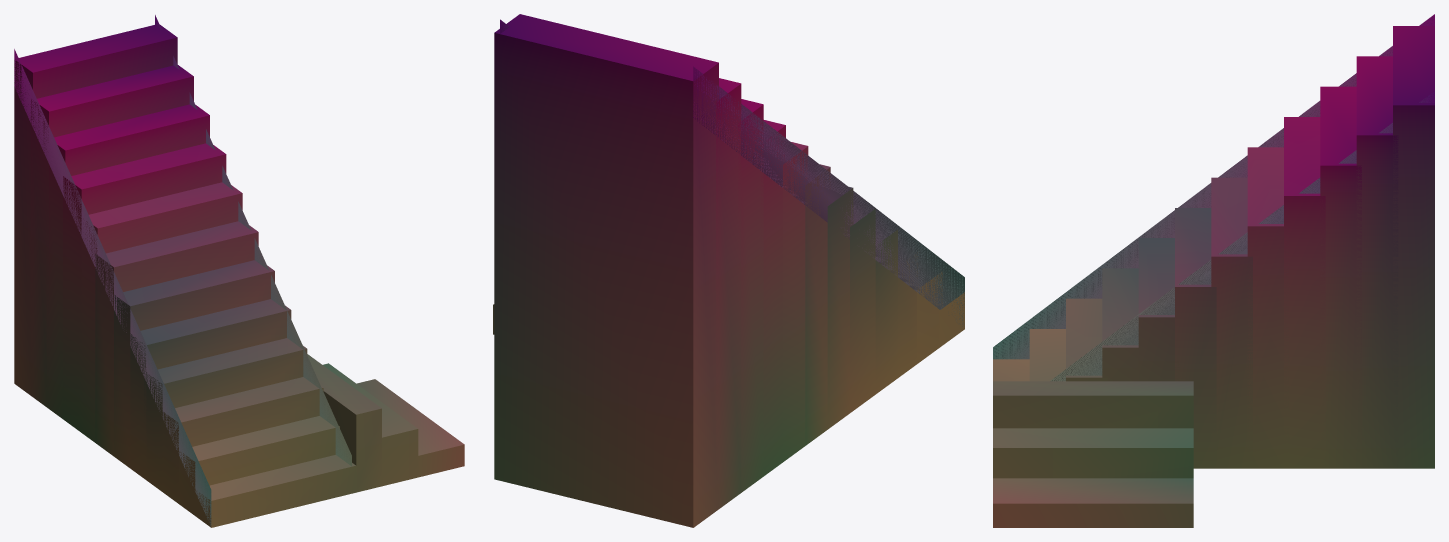
The model's file is stair_wood_3m.glb.
The picture shows the model from 3 angles, left to right: view 1: azimuth 30°, elevation 25°; view 2: azimuth 150°, elevation 25°; view 3: azimuth 270°, elevation 25°; orthographic projection. The views are drawn at different scales.
Visible parts, largest first — view 1: treads, stringers; view 2: treads, stringers; view 3: treads, stringers.
Part boxes in pixels (x1,y1,x2,y2): treads: (14,24,464,527); stringers: (14,15,351,526); treads: (493,14,964,527); stringers: (500,19,964,326); treads: (993,26,1434,527); stringers: (993,14,1434,381).
Size of the model in its own units: 2.45 by 3.1 by 3.3.
